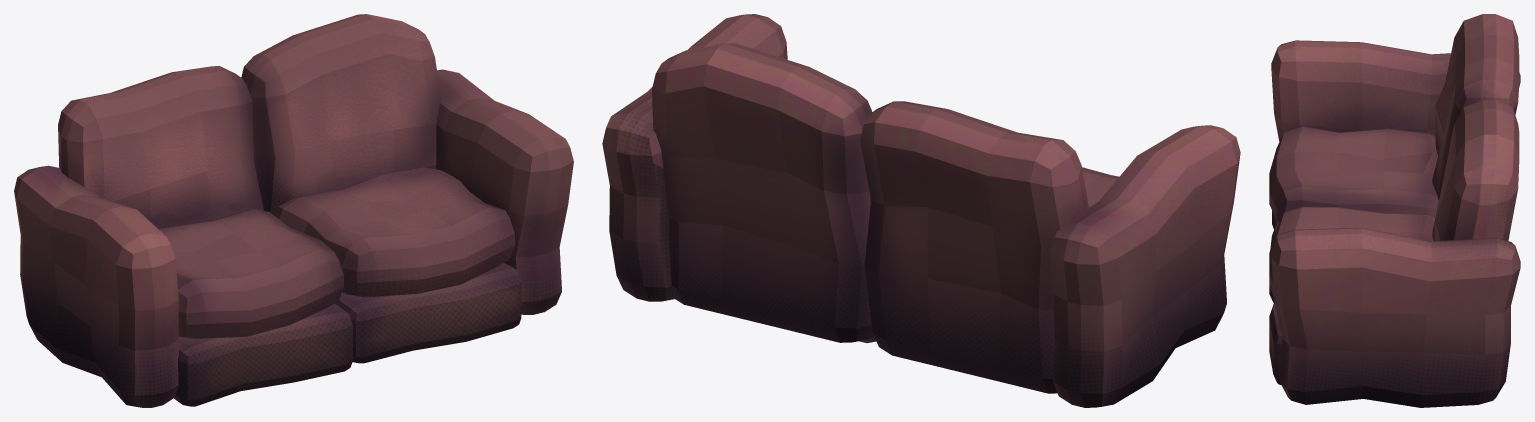
File: Sofa.obj
3 renders of one model, left to right at view 1: azimuth 30°, elevation 25°; view 2: azimuth 150°, elevation 25°; view 3: azimuth 270°, elevation 25°, orthographic. The views are drawn at different scales.
Visible parts, largest first — view 1: Sofa_Material; view 2: Sofa_Material; view 3: Sofa_Material.
Boxes of the visible parts, x1=… form: Sofa_Material: x1=14, y1=14, x2=573, y2=407; Sofa_Material: x1=602, y1=14, x2=1240, y2=407; Sofa_Material: x1=1269, y1=14, x2=1520, y2=407.
Size of the model in its own units: 1.99 by 1.02 by 0.9838.
